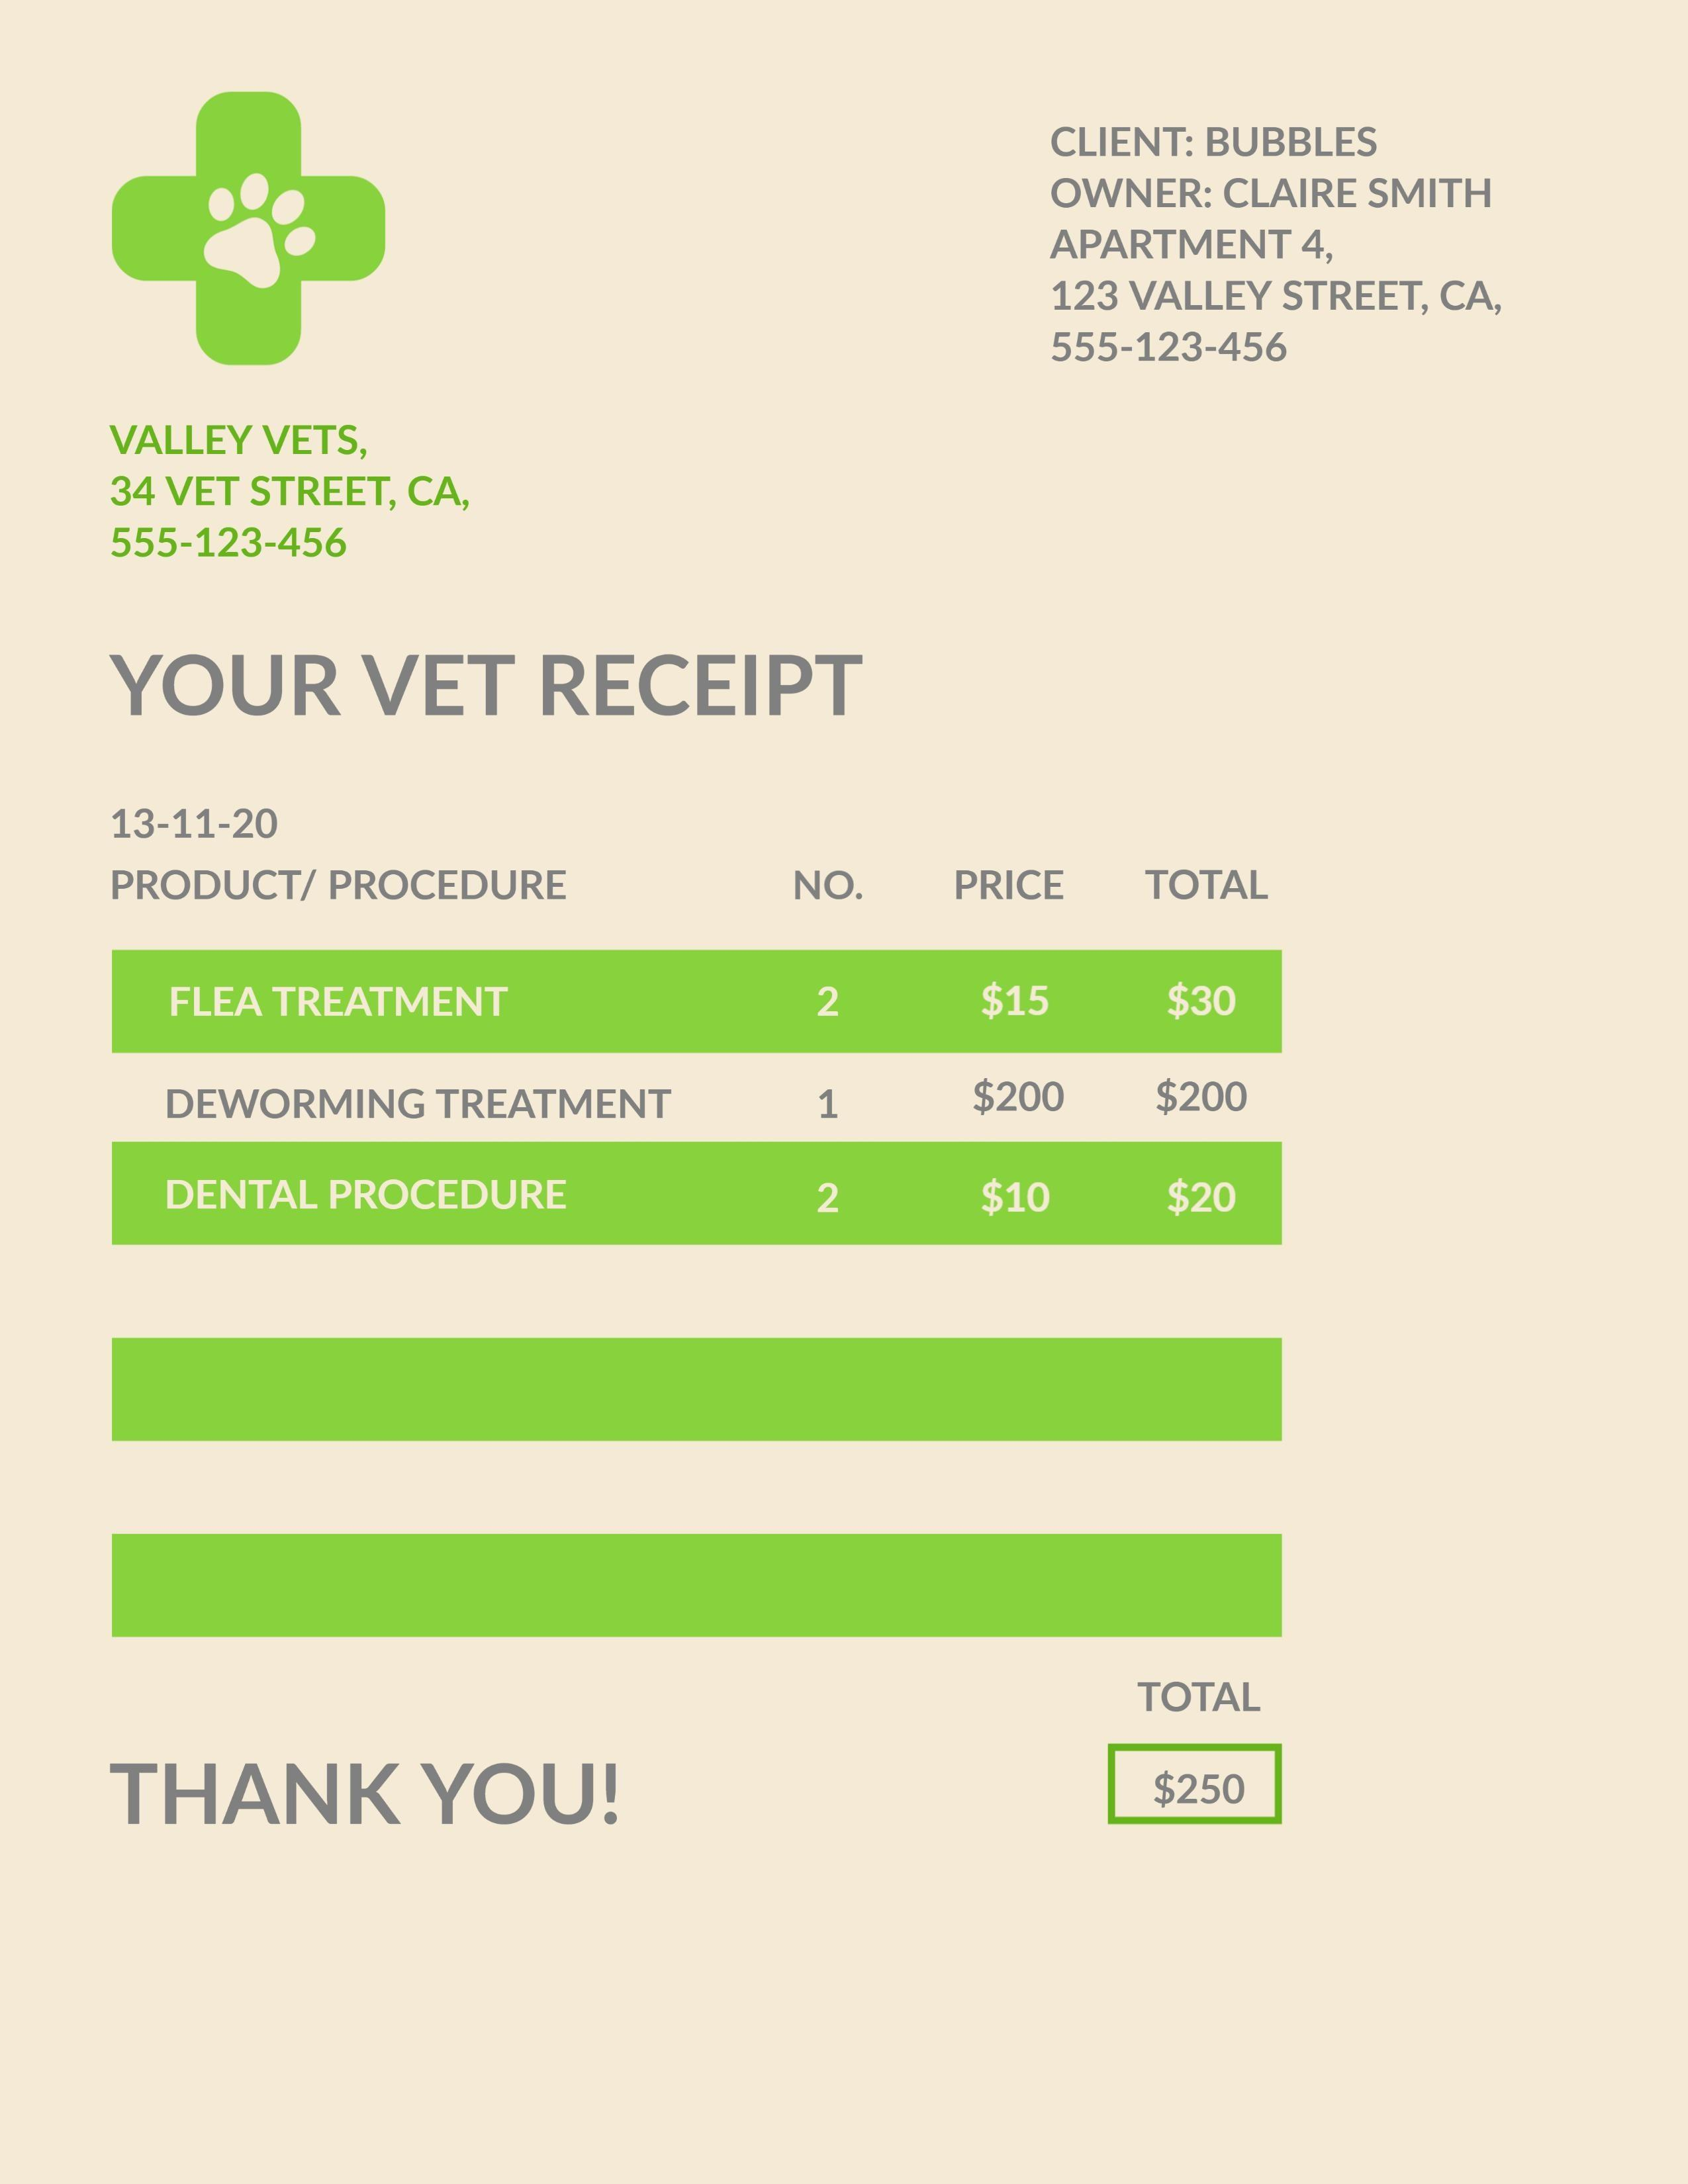ROI: (109, 862, 1303, 1656), (1023, 89, 1534, 379), (70, 388, 498, 595), (1096, 1667, 1306, 1849), (93, 794, 303, 846)
